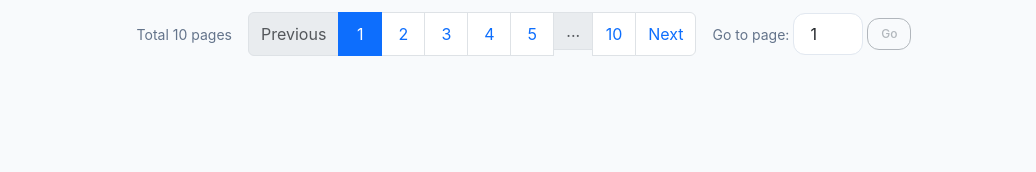
it: Pagination Component › Jump input › should show error for invalid input (non-number)
Replace the text in the number field named "Go to page" with "abc". click: (828, 34)
box: [793,13,863,55]
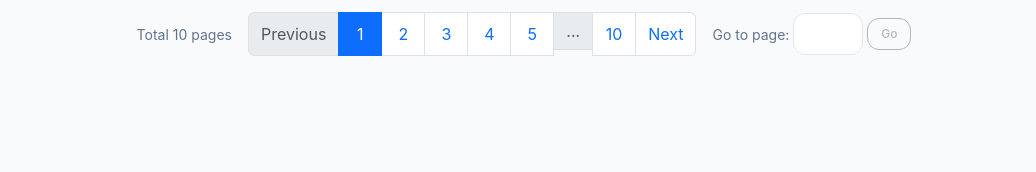
Press Enter in the number field named "Go to page", box [793,13,863,55]
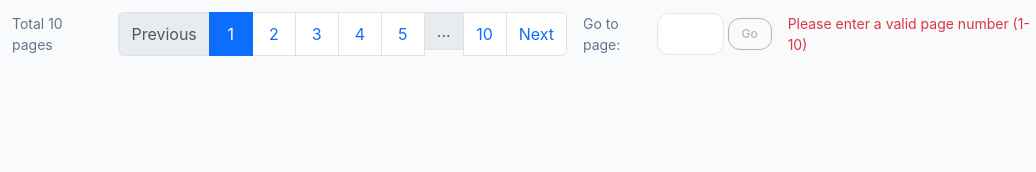
Now the message "Please enter a valid page number (1-10)" is shown, box [788,13,1035,55]
